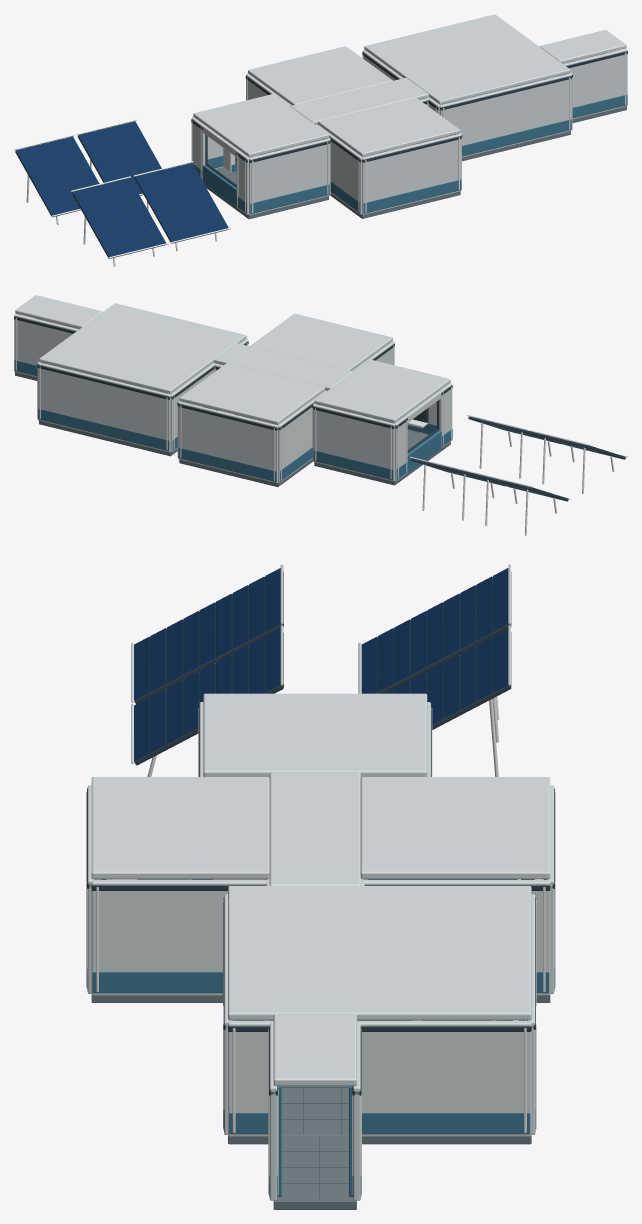
File: StationExpansion.fbx
The picture shows the model from 3 angles, top to bottom: view 1: azimuth 30°, elevation 25°; view 2: azimuth 150°, elevation 25°; view 3: azimuth 270°, elevation 25°; orthographic projection. The views are drawn at different scales.
Visible parts, largest first — view 1: Lobby__EX_Shell, SolarArray__EX_Solar, Bedroom__EX_Shell, Utilities__EX_Shell, Laboratory__EX_Shell, ExitAirlock__EX_Shell, SolarArray__EX_Trim, Corridor__EX_Shell, Utilities__EX_Blue, Bedroom__EX_Blue, Lobby__EX_Blue, SolarArray__EX_White (+8 smaller); view 2: Lobby__EX_Shell, Laboratory__EX_Shell, Utilities__EX_Shell, Bedroom__EX_Shell, ExitAirlock__EX_Shell, Corridor__EX_Shell, Utilities__EX_Blue, SolarArray__EX_White, SolarArray__EX_Trim, Lobby__EX_Blue, Laboratory__EX_Blue, Utilities__EX_Floor (+6 smaller); view 3: Lobby__EX_Shell, Bedroom__EX_Shell, SolarArray__EX_Solar, Laboratory__EX_Shell, Utilities__EX_Shell, Corridor__EX_Shell, ExitAirlock__EX_Shell, Lobby__EX_Floor, ExitAirlock__EX_Floor, SolarArray__EX_Trim, Lobby__EX_Blue, Bedroom__EX_Blue (+7 smaller).
Part boxes in pixels (<box>): Lobby__EX_Shell: <box>362,14,572,157</box>; SolarArray__EX_Solar: <box>16,121,228,256</box>; Bedroom__EX_Shell: <box>317,97,461,214</box>; Utilities__EX_Shell: <box>191,94,330,215</box>; Laboratory__EX_Shell: <box>246,46,392,105</box>; ExitAirlock__EX_Shell: <box>539,30,627,119</box>; SolarArray__EX_Trim: <box>15,123,226,258</box>; Corridor__EX_Shell: <box>290,77,428,151</box>; Utilities__EX_Blue: <box>193,149,329,214</box>; Bedroom__EX_Blue: <box>330,179,461,213</box>; Lobby__EX_Blue: <box>462,84,571,156</box>; SolarArray__EX_White: <box>14,119,230,266</box>; Lobby__EX_Shell: <box>37,303,248,452</box>; Laboratory__EX_Shell: <box>177,363,325,483</box>; Utilities__EX_Shell: <box>312,359,452,481</box>; Bedroom__EX_Shell: <box>250,313,394,371</box>; ExitAirlock__EX_Shell: <box>14,295,102,377</box>; Corridor__EX_Shell: <box>214,343,352,420</box>; Utilities__EX_Blue: <box>313,415,452,480</box>; SolarArray__EX_White: <box>410,415,627,535</box>; SolarArray__EX_Trim: <box>411,416,625,501</box>; Lobby__EX_Blue: <box>38,408,177,450</box>; Laboratory__EX_Blue: <box>178,447,312,481</box>; Utilities__EX_Floor: <box>314,430,450,485</box>; Lobby__EX_Shell: <box>224,886,535,1136</box>; Bedroom__EX_Shell: <box>87,777,269,995</box>; SolarArray__EX_Solar: <box>134,568,508,761</box>; Laboratory__EX_Shell: <box>360,777,554,995</box>; Utilities__EX_Shell: <box>199,693,430,777</box>; Corridor__EX_Shell: <box>266,772,364,885</box>; ExitAirlock__EX_Shell: <box>269,1014,360,1200</box>; Lobby__EX_Floor: <box>228,1020,531,1144</box>; ExitAirlock__EX_Floor: <box>273,1136,356,1209</box>; SolarArray__EX_Trim: <box>134,571,511,765</box>; Lobby__EX_Blue: <box>223,1020,535,1134</box>; Bedroom__EX_Blue: <box>87,879,222,993</box>.
Bounding box in the file's own units: 3372 × 386 × 1237.
